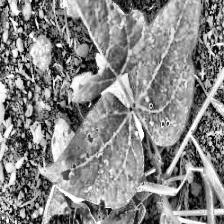ALS: (40, 93, 148, 206), (126, 0, 201, 148), (54, 0, 143, 103)
